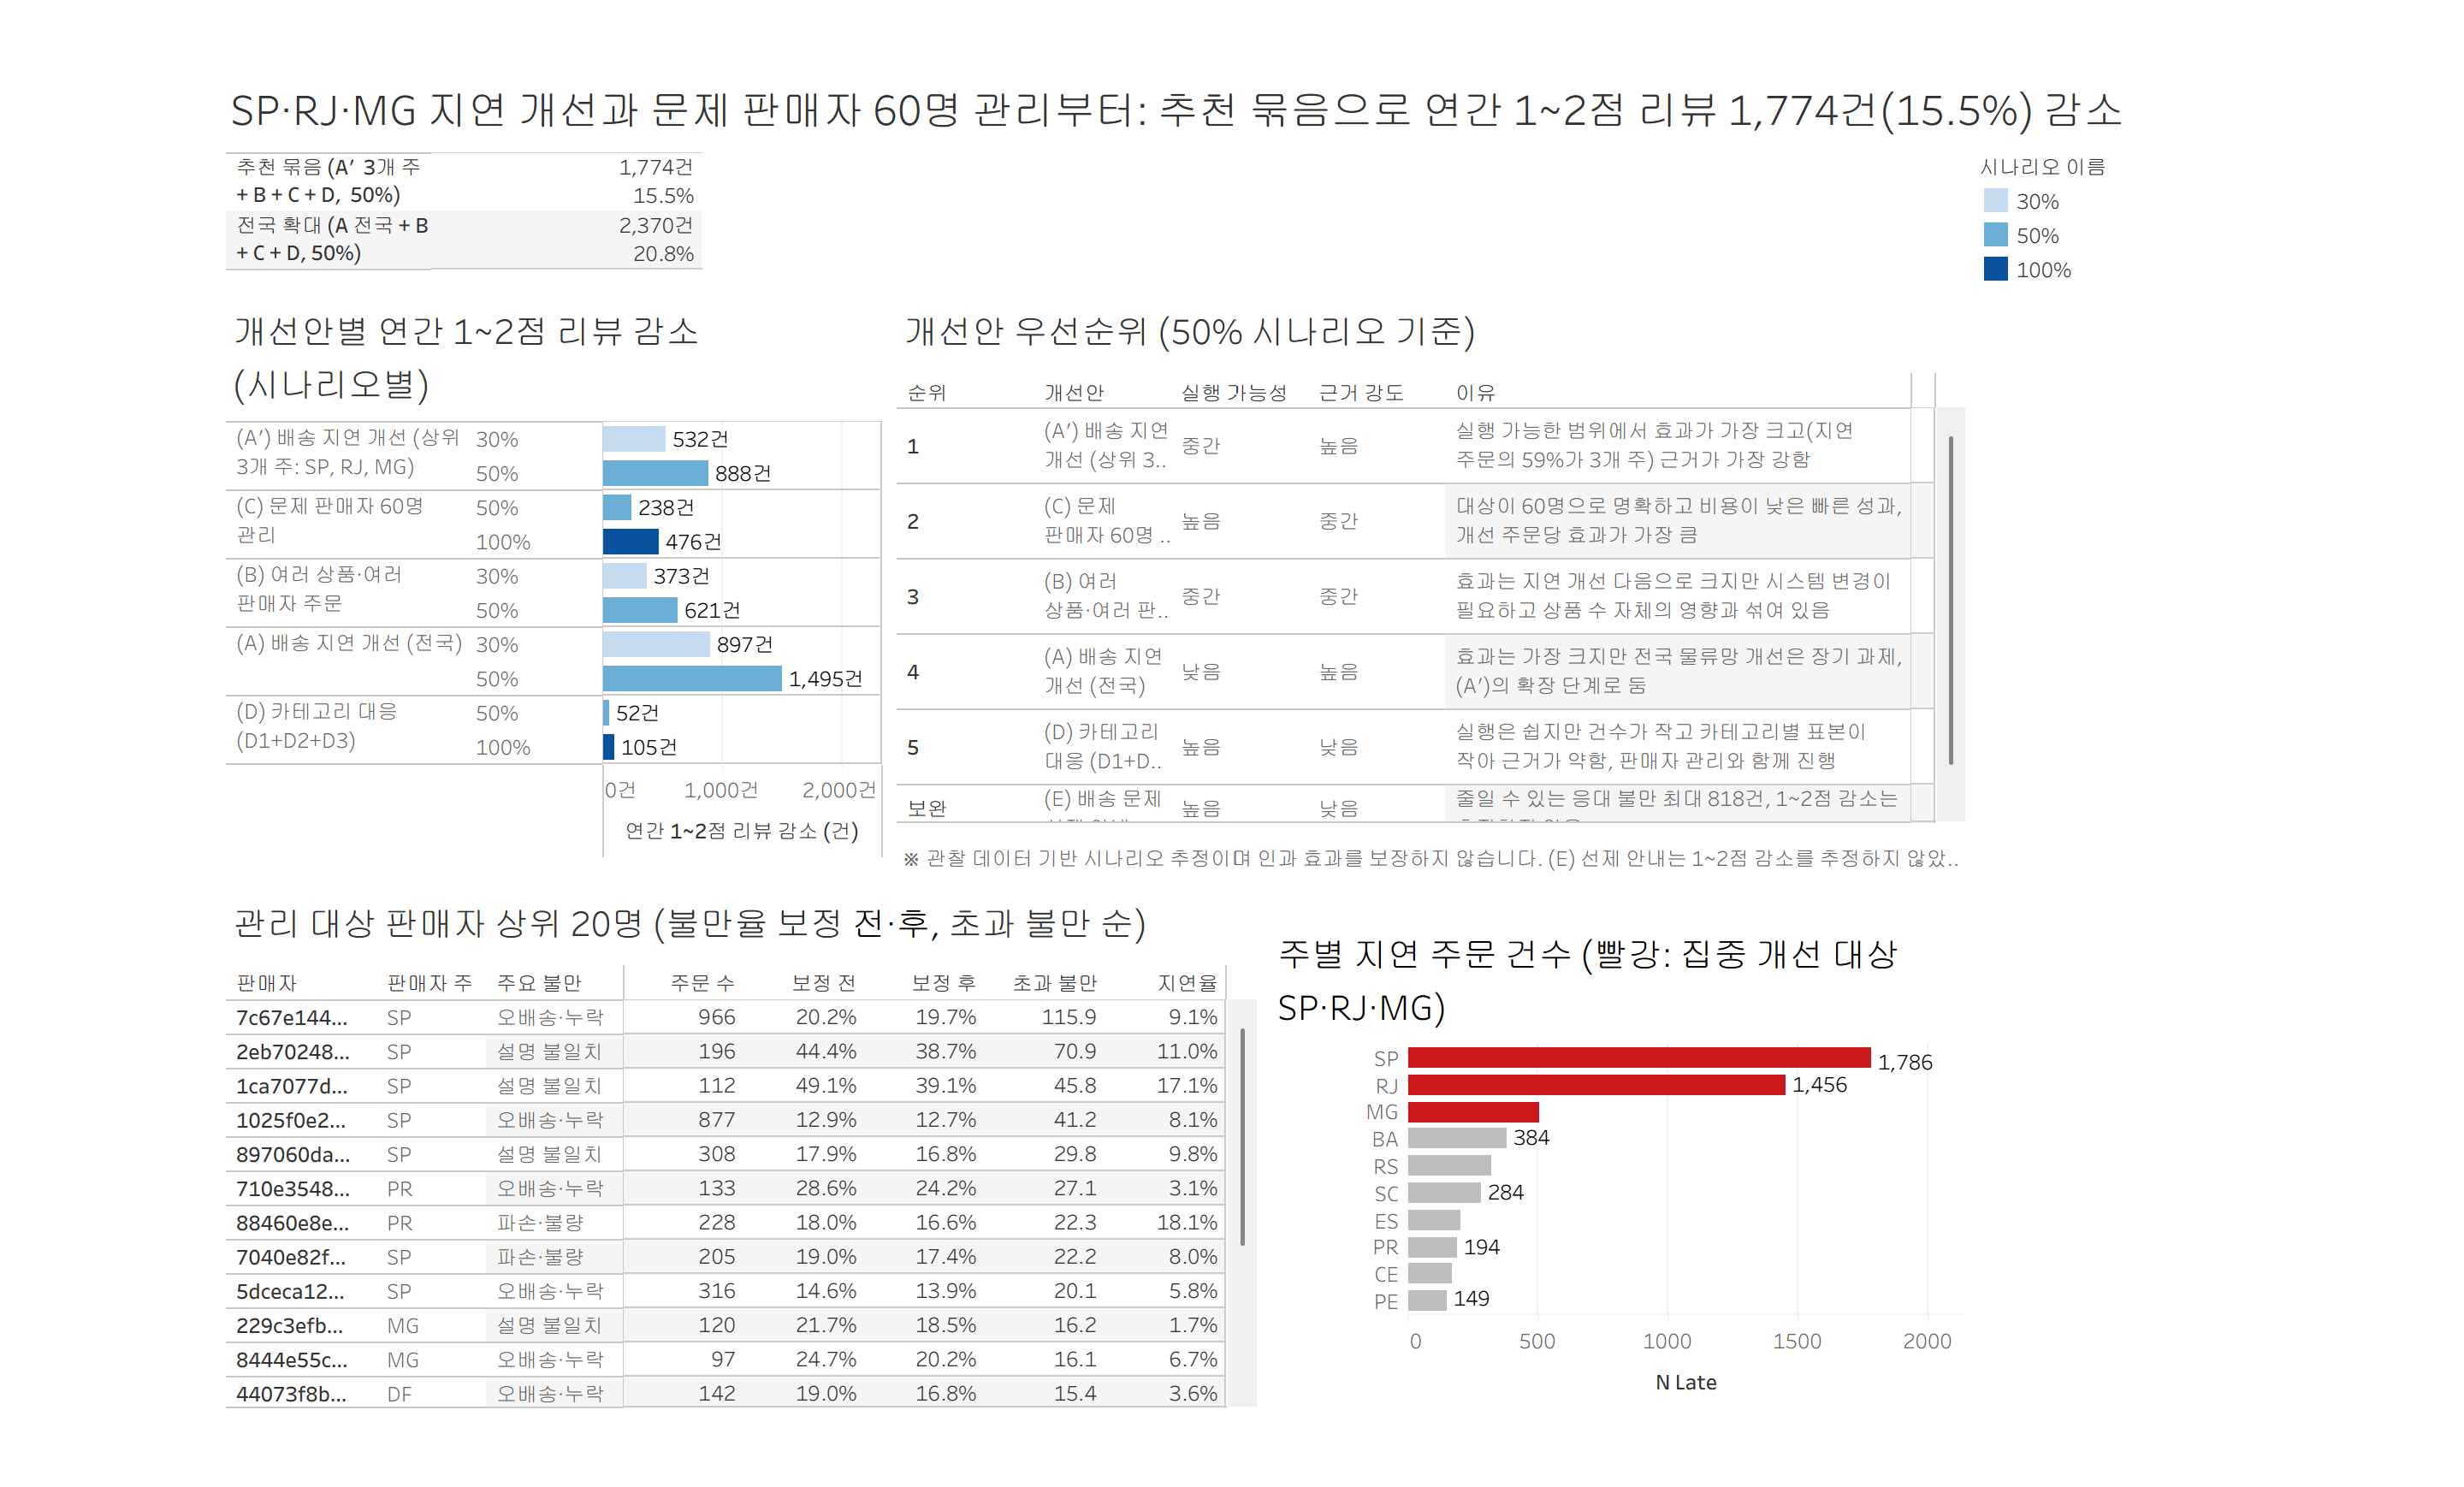

The dashboard page shown, as its layout file describes it:
{"tool":"tableau","page":{"name":"③ 개선 우선순위","canvas":[1200,800],"ordinal":2},"visuals":[{"type":"title","box":[8,8,1184,42]},{"type":"worksheet","title":"3-1 KPI","mark":"Automatic","rows":["intervention"],"box":[8,50,1024,86]},{"type":"legend","title":"3-2 개선안별 연간 감소","param":"[federated.0biwdge1e1ndmq1fr9cg60q0pcq2].[none:Calculation_0482739439964160:nk]","box":[1032,50,160,86]},{"type":"worksheet","title":"3-2 개선안별 연간 감소","mark":"Automatic","rows":["intervention","Calculation_0482739439964160"],"cols":["reduction_mean"],"box":[8,136,392,346]},{"type":"worksheet","title":"3-3 우선순위 표","mark":"Text","rows":["priority","intervention","feasibility","evidence","reason"],"box":[400,136,632,314]},{"type":"text","box":[400,450,632,32]},{"type":"worksheet","title":"3-4 관리 대상 판매자","mark":"Automatic","rows":["Calculation_0482739445243905","seller_state","main_complaint_type"],"box":[8,482,610,310]},{"type":"worksheet","title":"3-5 주별 지연 건수","mark":"Automatic","rows":["customer_state"],"cols":["n_late"],"box":[618,482,414,310]}]}

Visuals, with their boxes on the page's 1200x800 design canvas (x1, y1, x2, y2). These are canvas units, not pixel positions in the 2464x1487 screenshot, which may show the page scaled, cropped or inside an application window:
title: [x1=8, y1=8, x2=1192, y2=50]
"3-1 KPI" worksheet: [x1=8, y1=50, x2=1032, y2=136]
"3-2 개선안별 연간 감소" legend: [x1=1032, y1=50, x2=1192, y2=136]
"3-2 개선안별 연간 감소" worksheet: [x1=8, y1=136, x2=400, y2=482]
"3-3 우선순위 표" worksheet (Text marks): [x1=400, y1=136, x2=1032, y2=450]
text: [x1=400, y1=450, x2=1032, y2=482]
"3-4 관리 대상 판매자" worksheet: [x1=8, y1=482, x2=618, y2=792]
"3-5 주별 지연 건수" worksheet: [x1=618, y1=482, x2=1032, y2=792]
